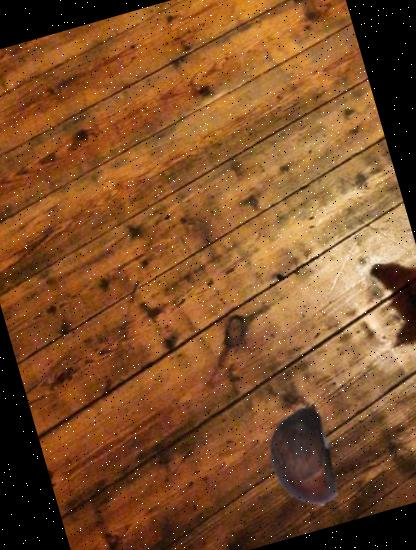Chestnut: (238, 396, 363, 520)
